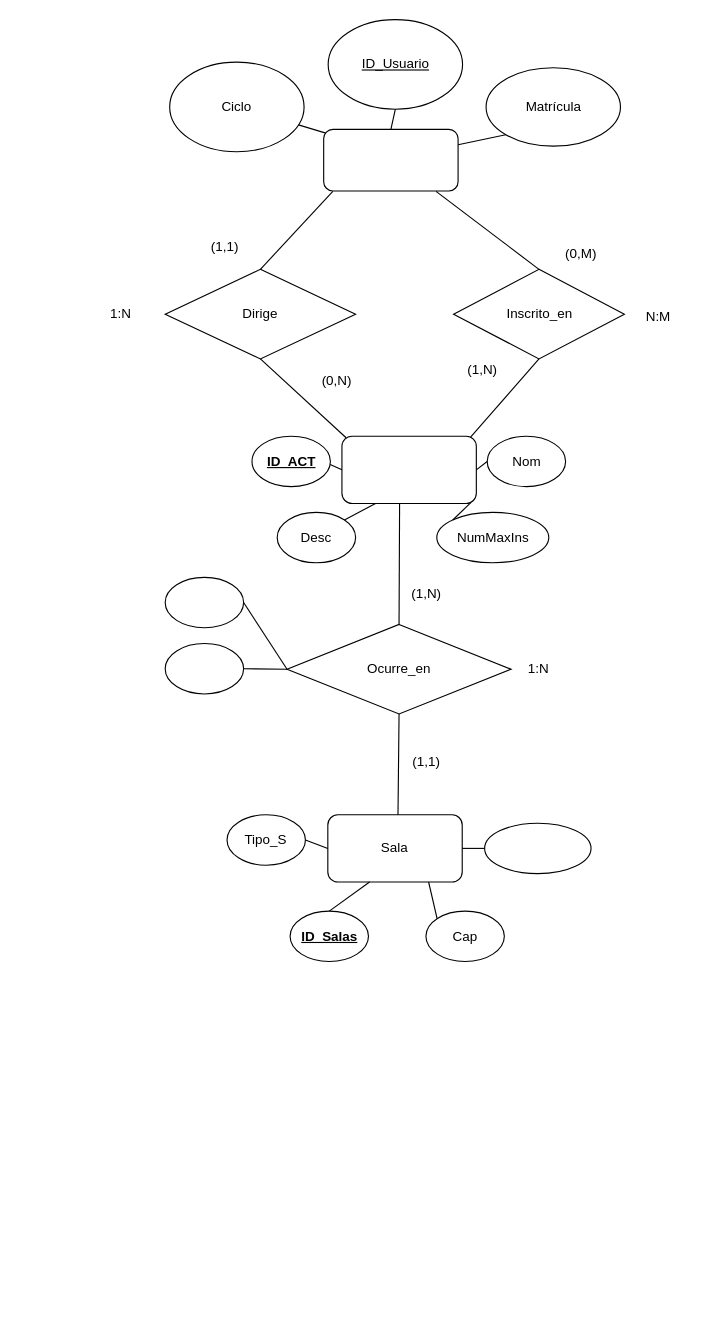
This 704x1322 diagram has some shape labels left out. The shapes that lost their labels are listed below. From the top down, each one's box as (x1, y1, x2, y2) in pixels, then its label:
(323, 128, 458, 191): Usuarios
(341, 435, 476, 503): Actividades
(164, 576, 244, 628): Hora
(164, 642, 244, 694): Dia
(484, 822, 591, 874): Código_S
